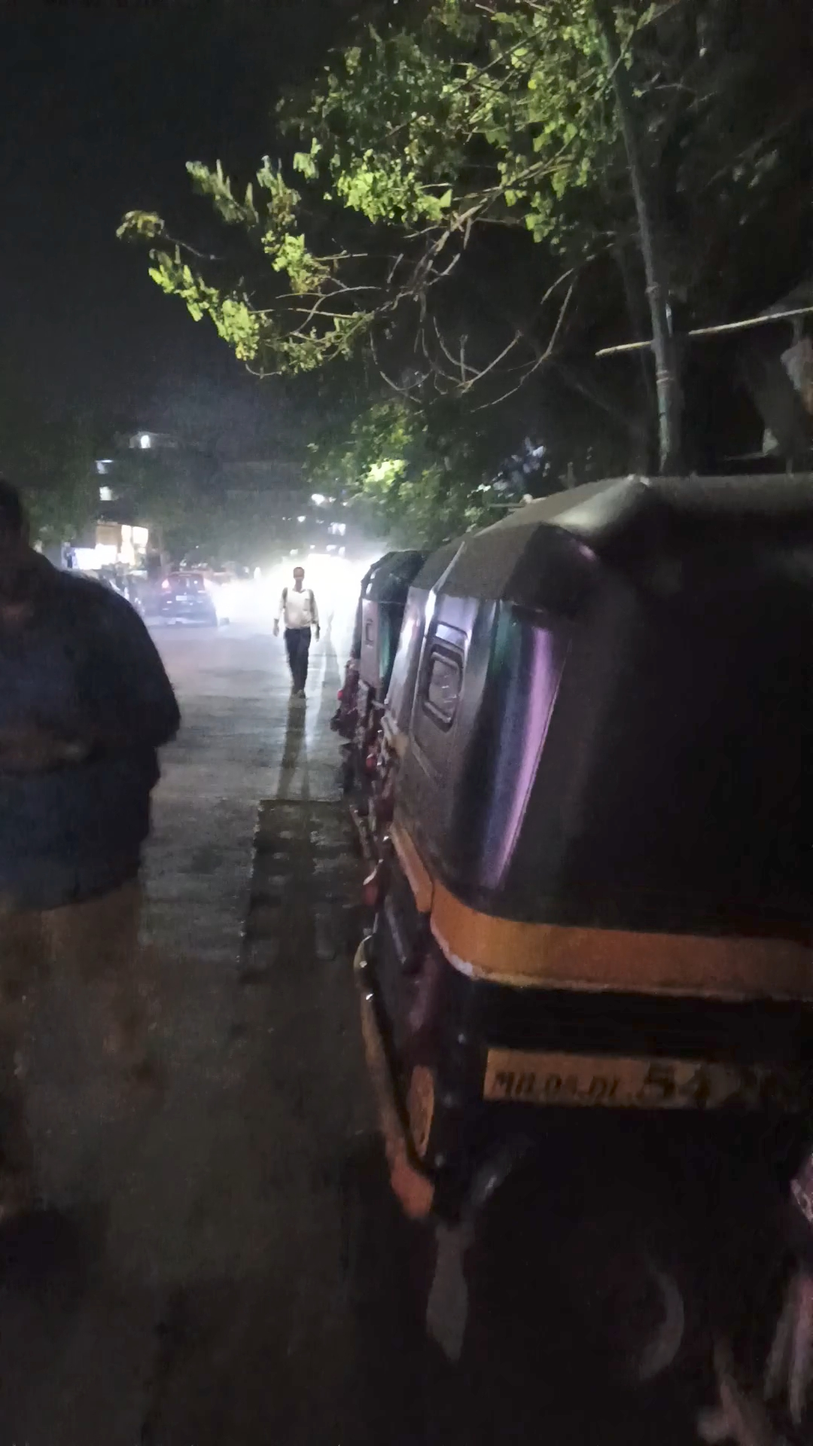vehicle: (482, 1046, 710, 1110)
